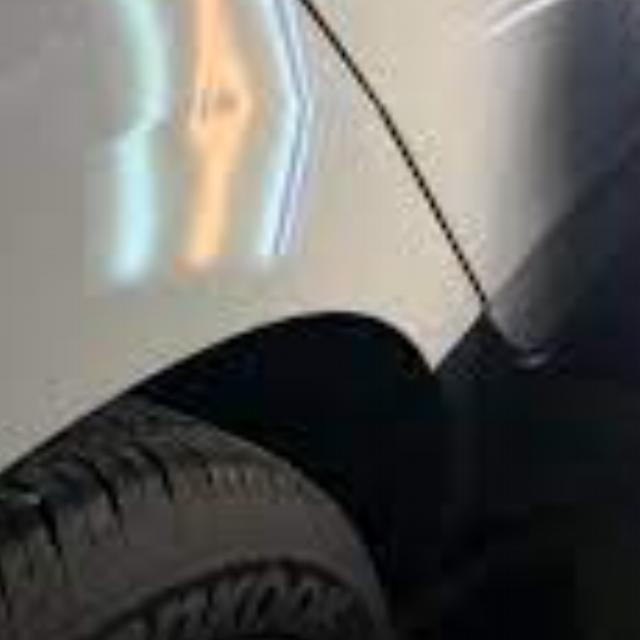dents: (188, 68, 274, 145)
